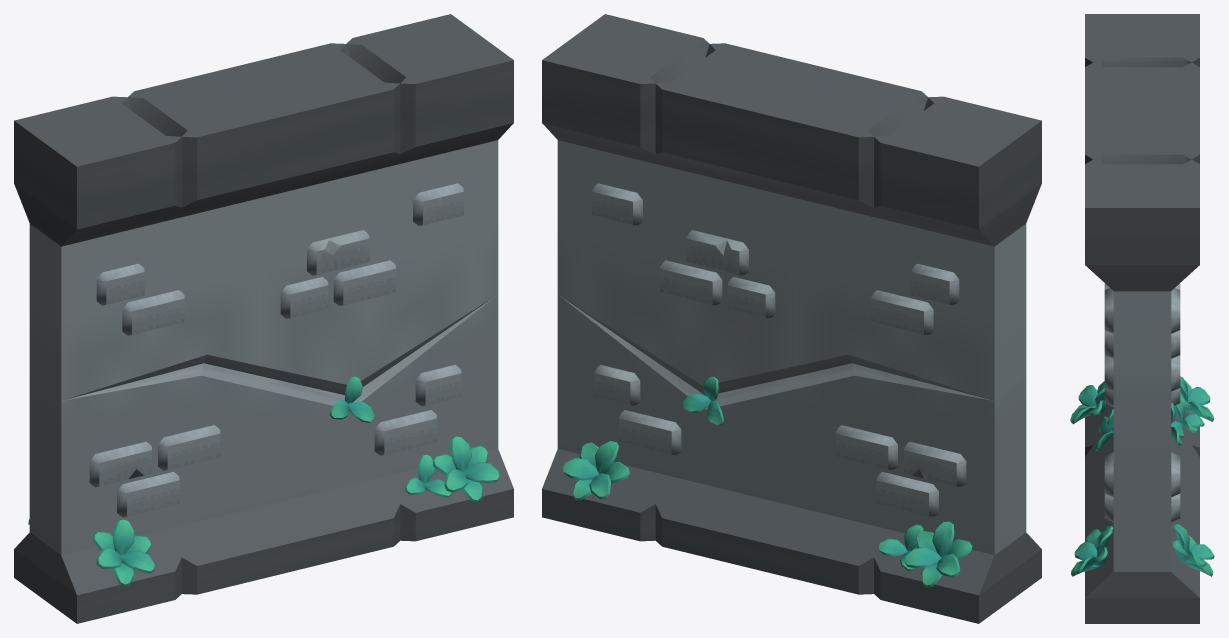
File: wall_cracked.glb
3 views of the same model, side by side, from view 1: azimuth 30°, elevation 25°; view 2: azimuth 150°, elevation 25°; view 3: azimuth 270°, elevation 25° (orthographic). The views are drawn at different scales.
Visible parts, largest first — view 1: wall_cracked; view 2: wall_cracked; view 3: wall_cracked.
Part boxes in pixels (<box>): wall_cracked: <box>14,14,513,623</box>; wall_cracked: <box>542,14,1041,623</box>; wall_cracked: <box>1070,14,1214,623</box>.
Size of the model in its own units: 4 by 4 by 1.26.
1 material, 1 textured.
